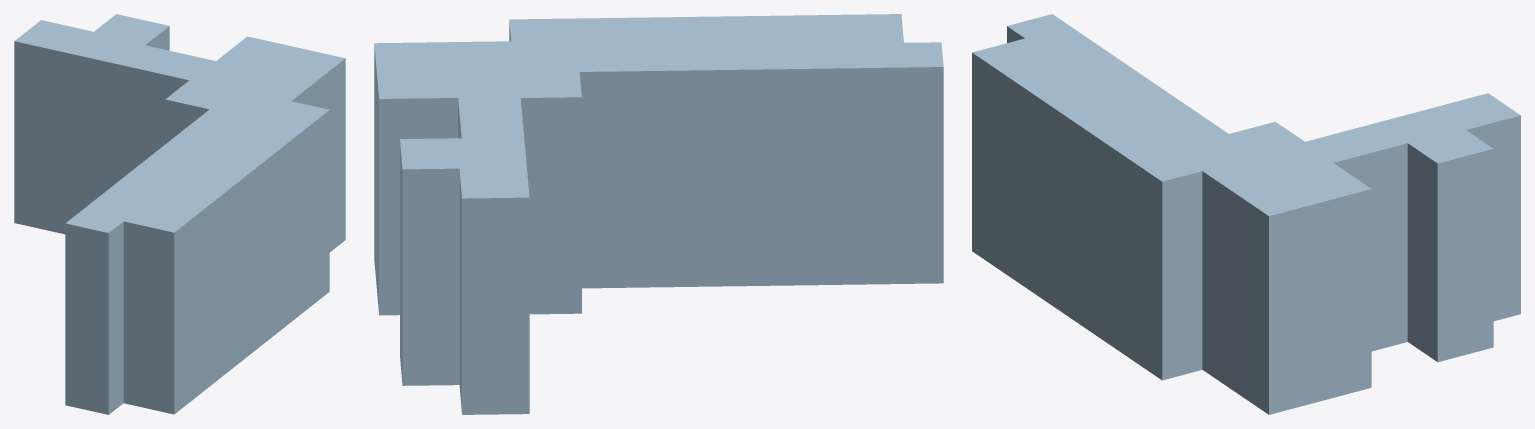
File: osm_way_225255202.glb
3 renders of one model, left to right at view 1: azimuth 30°, elevation 25°; view 2: azimuth 150°, elevation 25°; view 3: azimuth 270°, elevation 25°, orthographic. The views are drawn at different scales.
Visible parts, largest first — view 1: osm_way_225255202; view 2: osm_way_225255202; view 3: osm_way_225255202.
Part boxes in pixels (x1,y1,x2,y2): osm_way_225255202: [14, 14, 345, 414]; osm_way_225255202: [374, 14, 943, 414]; osm_way_225255202: [972, 14, 1520, 414].
Size of the model in its own units: 41.91 by 19.2 by 48.07.
